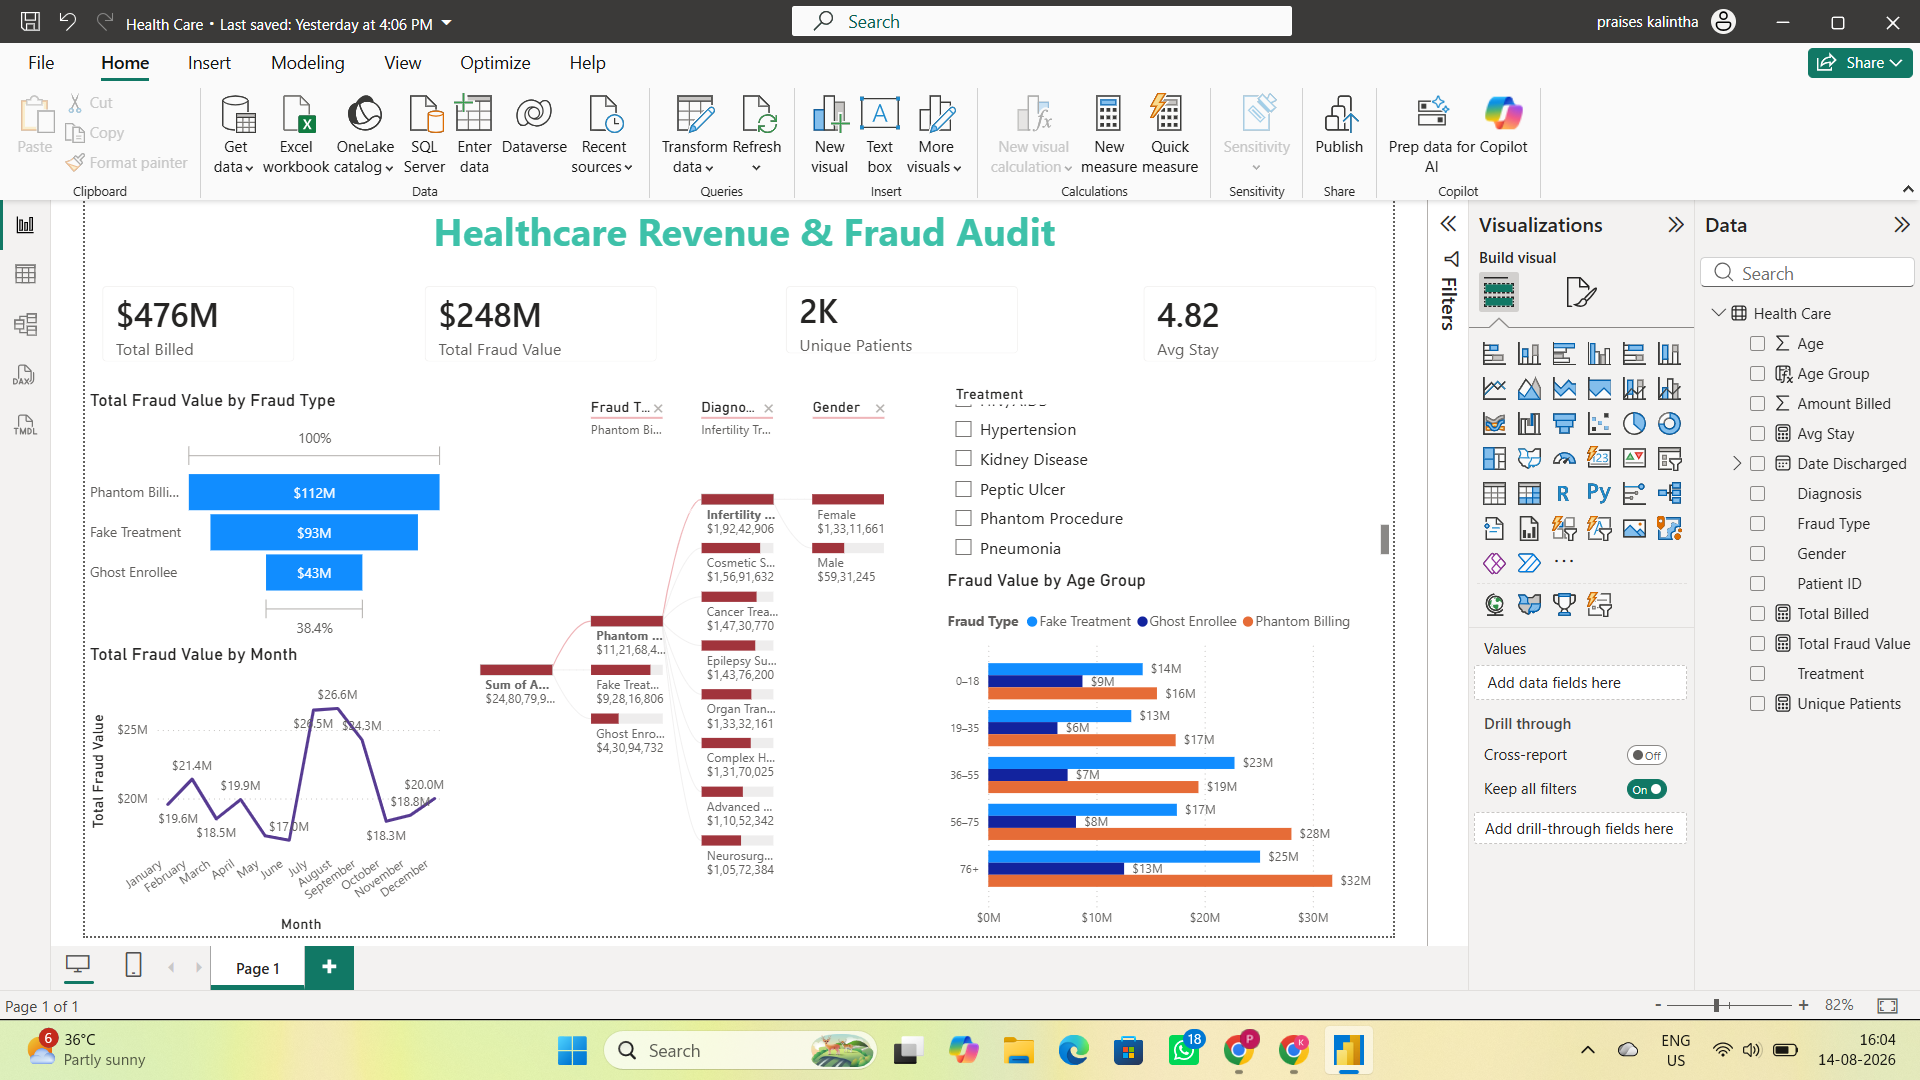

This screenshot's page, from the dashboard's own definition file:
{"tool":"powerbi","page":{"name":"Page 1","canvas":[1280,720],"ordinal":0},"visuals":[{"type":"textbox","box":[9.6,0,1270.7,76.8],"z":0},{"type":"cardVisual","fields":{"Data":["Health Care.Total Billed"]},"box":[0,67.3,222.6,108.8],"z":1000},{"type":"cardVisual","fields":{"Data":["Health Care.Total Fraud Value"]},"box":[315.5,67.3,261.7,108.8],"z":2000},{"type":"cardVisual","fields":{"Data":["Health Care.Unique Patients"]},"box":[668.9,67.3,261.7,100.3],"z":3000},{"type":"cardVisual","fields":{"Data":["Health Care.Avg Stay (Days)"]},"box":[1018.6,67.3,262.1,108.4],"z":4000},{"type":"lineChart","fields":{"Category":["Health Care.Date Discharged.Variation.Date Hierarchy.Month"],"Y":["Health Care.Total Fraud Value"]},"box":[0,434.1,356.8,286.8],"z":6000},{"type":"clusteredBarChart","title":"Fraud Value by Age Group","fields":{"Category":["Health Care.Age Group"],"Series":["Health Care.Fraud Type"],"Y":["Health Care.Total Fraud Value"]},"box":[838.9,362,441.4,358.3],"z":7000},{"type":"decompositionTreeVisual","fields":{"Analyze":["Sum(Health Care.Amount Billed)"],"ExplainBy":["Health Care.Fraud Type","Health Care.Diagnosis","Health Care.Gender"]},"box":[357.1,177.3,481.8,542.9],"z":9000},{"type":"funnel","fields":{"Category":["Health Care.Fraud Type"],"Y":["Health Care.Total Fraud Value"]},"box":[0,177.3,357.1,256.8],"z":9001},{"type":"slicer","fields":{"Values":["Health Care.Treatment"]},"box":[838.9,176.1,441.4,185.9],"z":9002}]}

Visuals, with their boxes on the page's 1280x720 design canvas (x1, y1, x2, y2). These are canvas units, not pixel positions in the 1920x1080 screenshot, which may show the page scaled, cropped or inside an application window:
textbox: x1=10, y1=0, x2=1280, y2=77
cardVisual - Health Care.Total Billed: x1=0, y1=67, x2=223, y2=176
cardVisual - Health Care.Total Fraud Value: x1=316, y1=67, x2=577, y2=176
cardVisual - Health Care.Unique Patients: x1=669, y1=67, x2=931, y2=168
cardVisual - Health Care.Avg Stay (Days): x1=1019, y1=67, x2=1281, y2=176
lineChart - Health Care.Date Discharged.Variation.Date Hierarchy.Month x Health Care.Total Fraud Value: x1=0, y1=434, x2=357, y2=721
"Fraud Value by Age Group" clusteredBarChart: x1=839, y1=362, x2=1280, y2=720
decompositionTreeVisual - Sum(Health Care.Amount Billed) x Health Care.Fraud Type: x1=357, y1=177, x2=839, y2=720
funnel - Health Care.Fraud Type x Health Care.Total Fraud Value: x1=0, y1=177, x2=357, y2=434
slicer - Health Care.Treatment: x1=839, y1=176, x2=1280, y2=362
